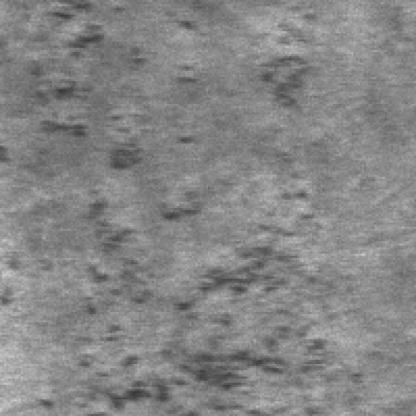rolled-in_scale: (58, 187, 362, 412), (16, 0, 195, 220), (247, 0, 318, 110)
